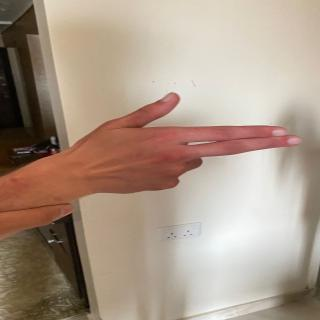GHAYN: (84, 86, 308, 193)
